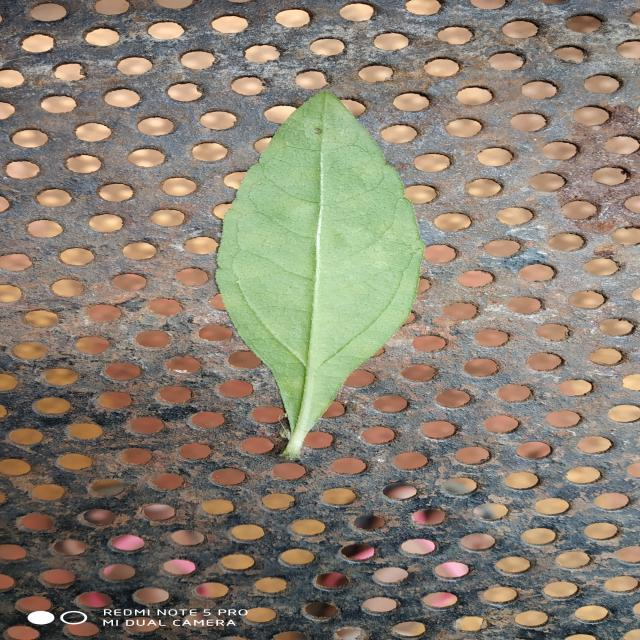bringaraja: (218, 92, 422, 459)
